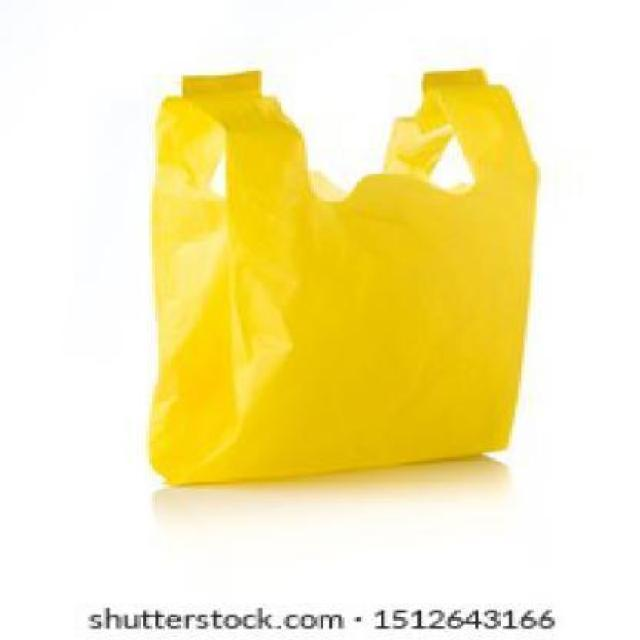plastic bag: (143, 68, 548, 494)
